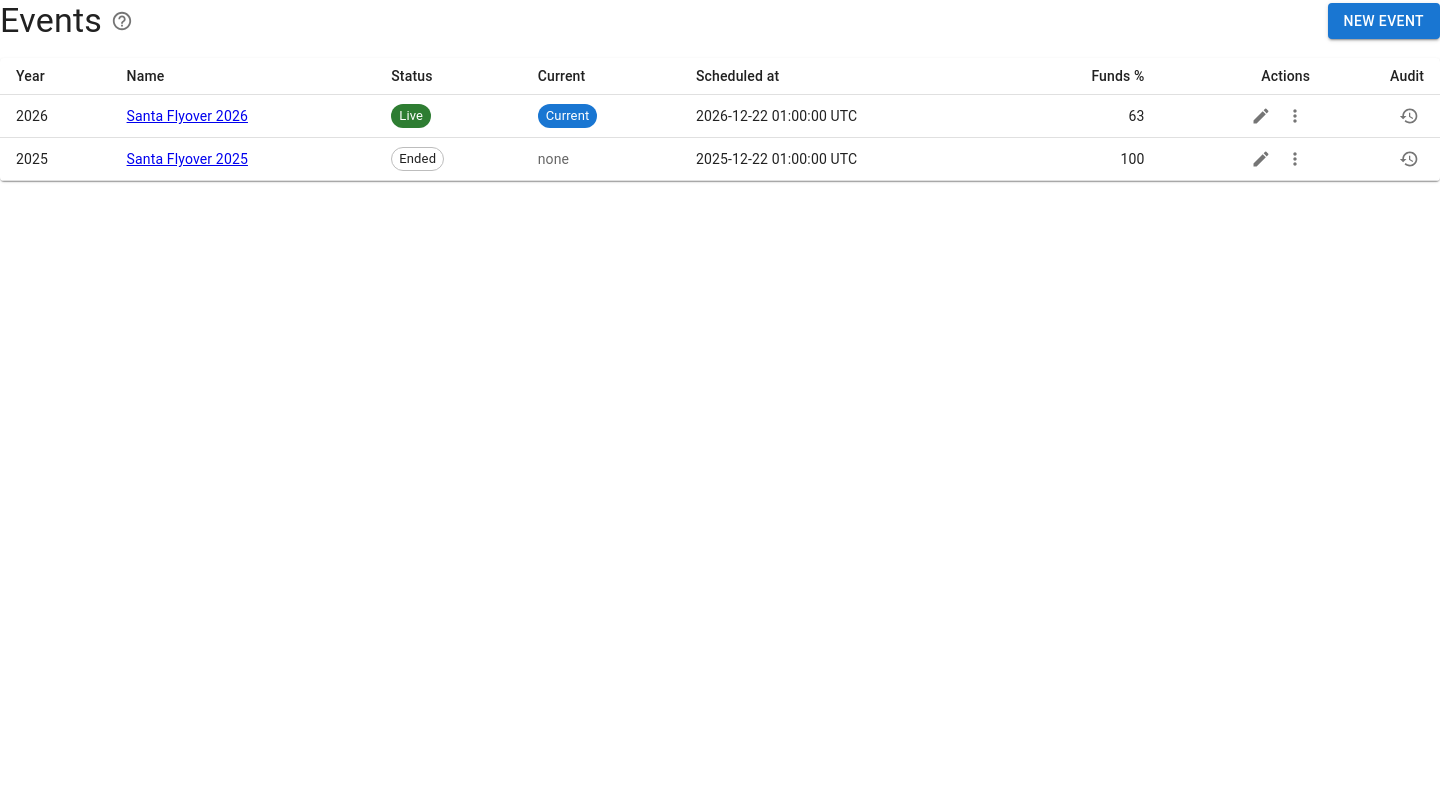
Test: EventsList rows › shows the Current chip on the current event and hides Set current
This screenshot has width=1440, height=810.
// Row menu on the current row has no Set current item.
Click the button named "Actions for Santa Flyover 2026": (1295, 116) [1280,101,1310,131]
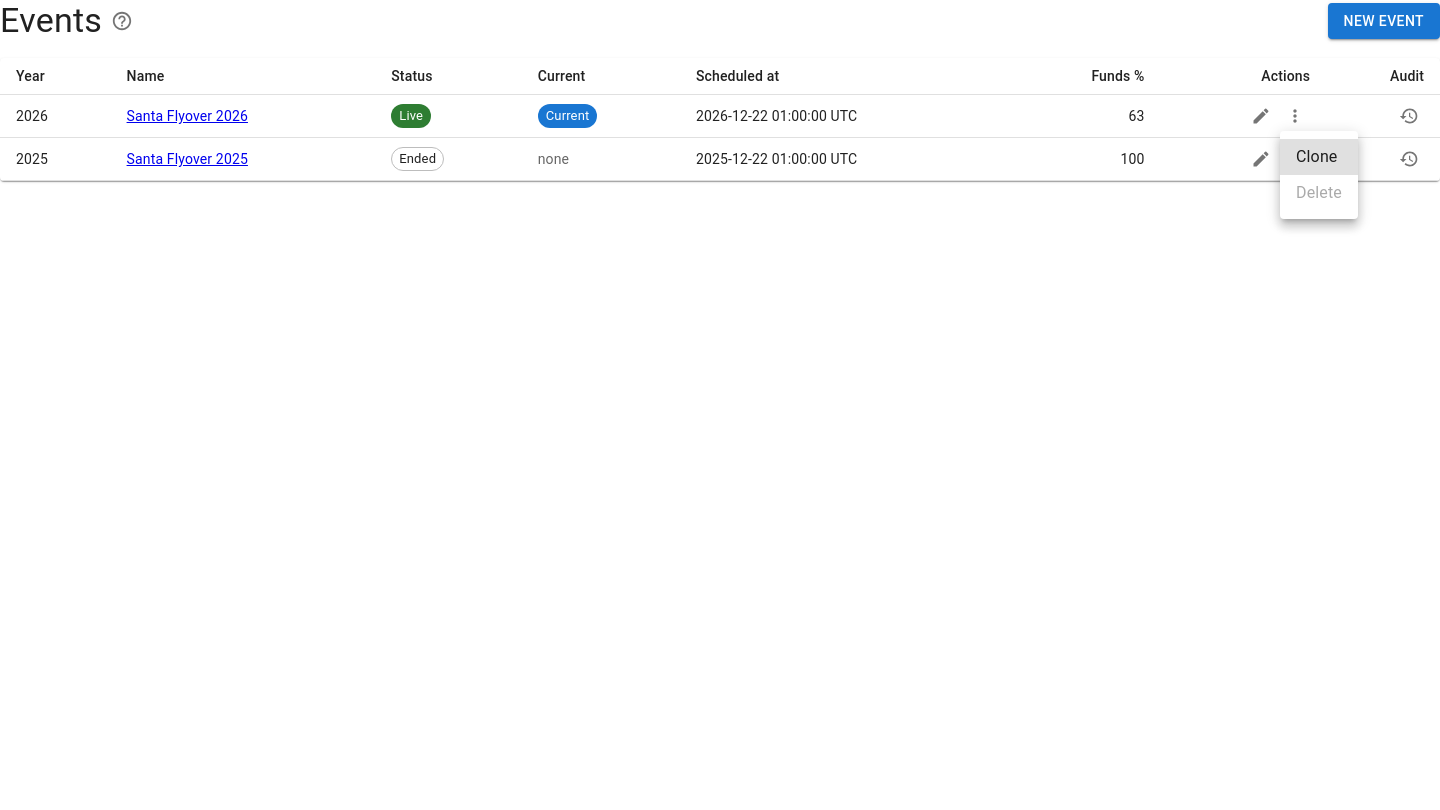
Expected: the menu item "set current" is not shown
// Close and open the non-current row's menu.
Press Escape
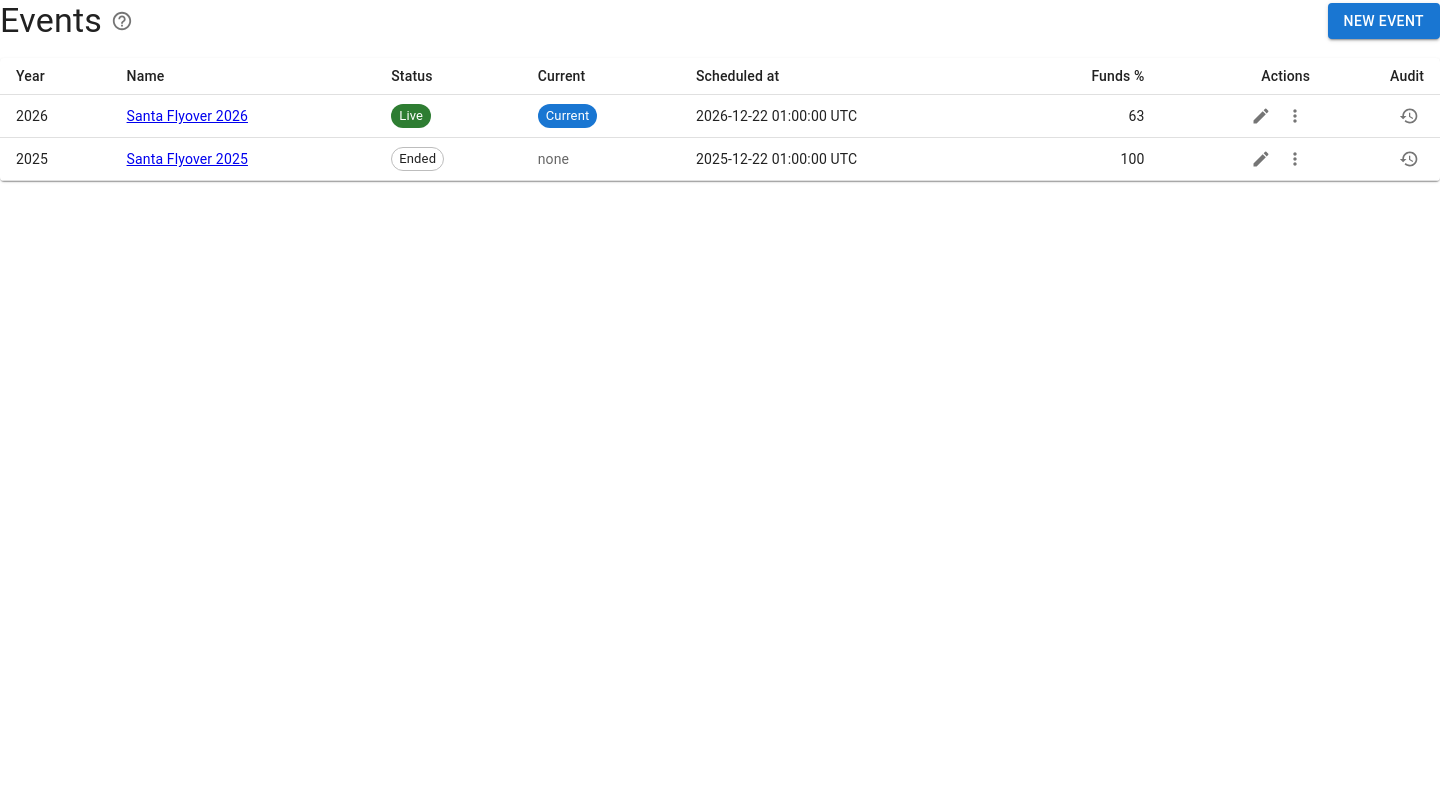
Click the button named "Actions for Santa Flyover 2025": (1295, 159) [1280,144,1310,174]
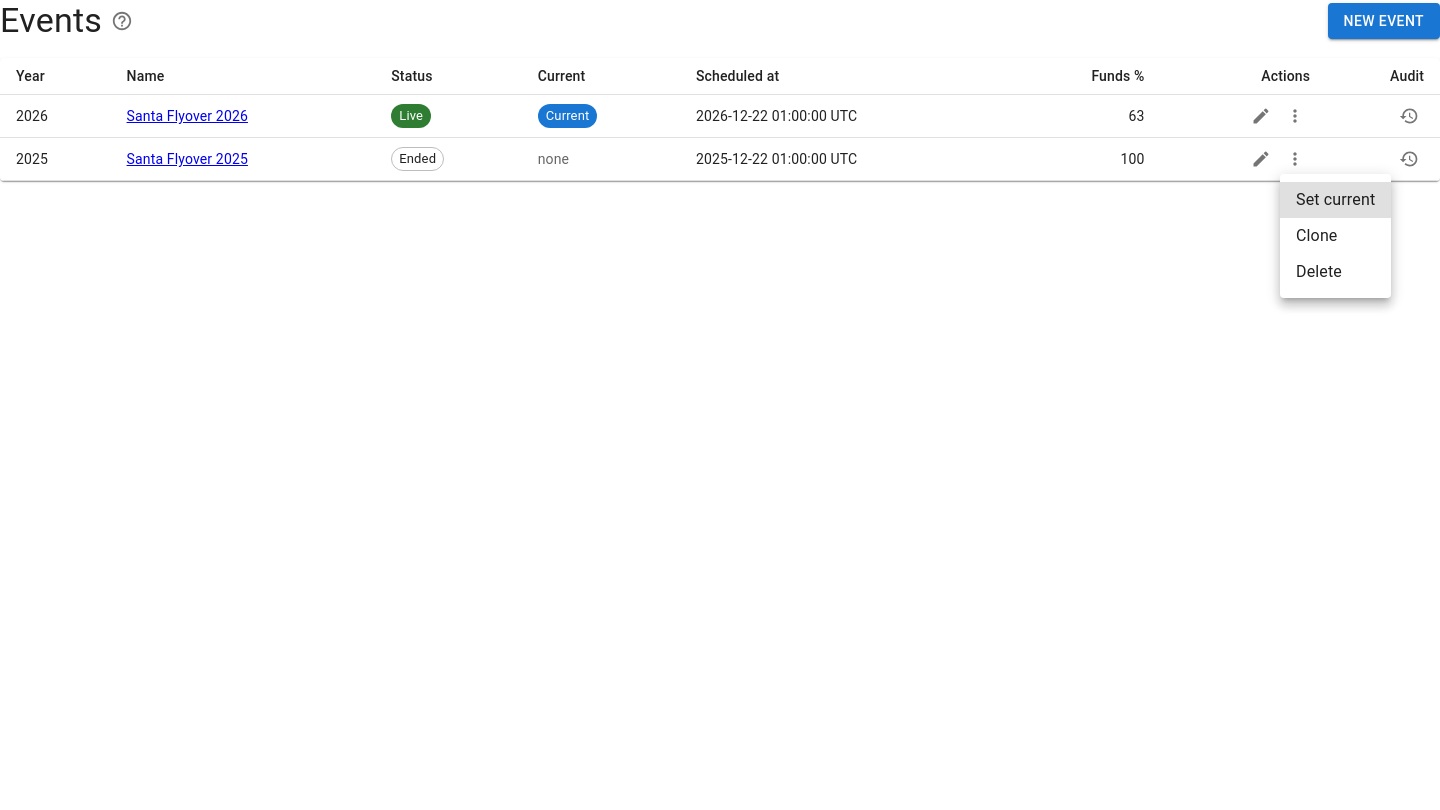
Expected: the menu item "Set current" is shown
Click the menu item "Set current": (1336, 200) [1280,182,1391,218]
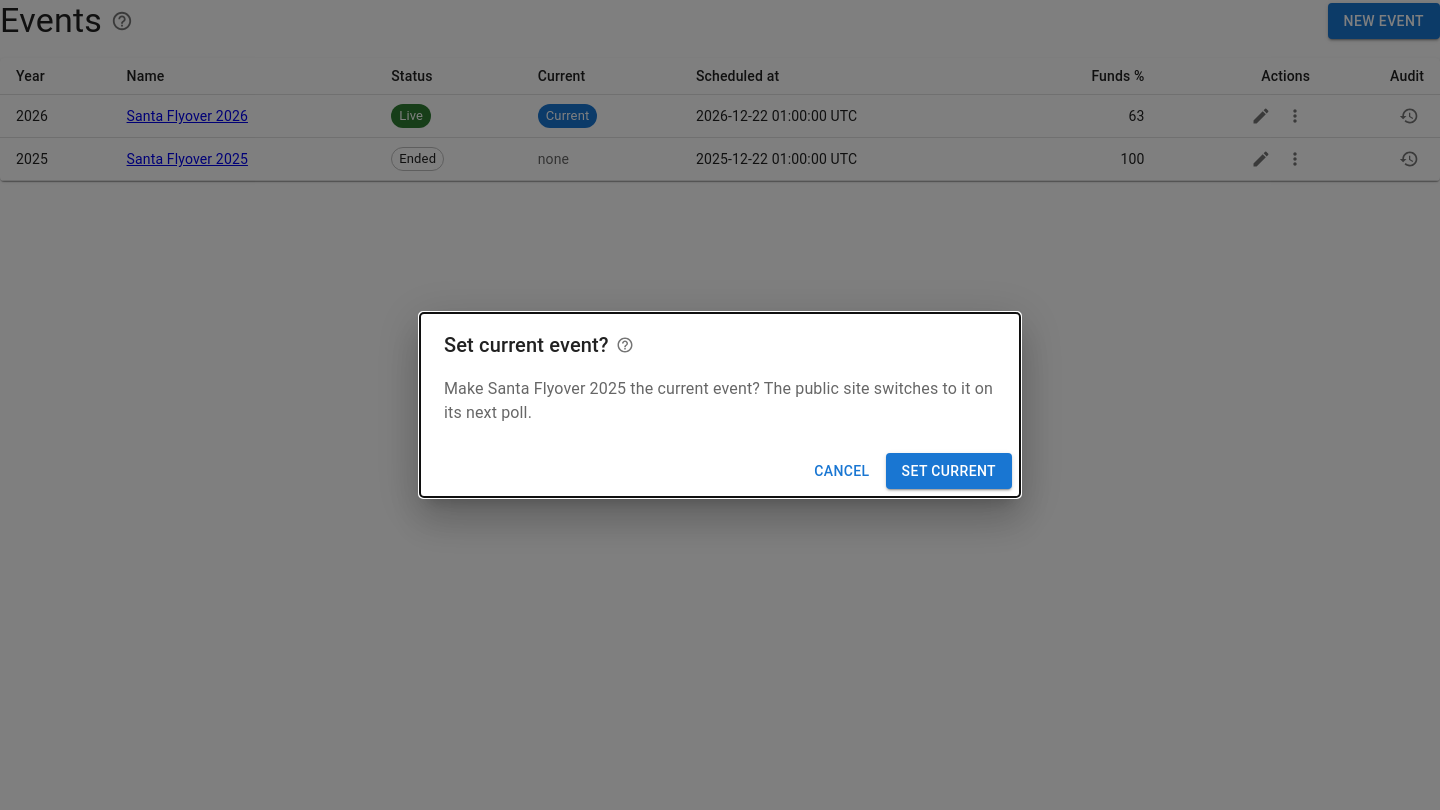
Expected: the button with test id "help-events.set-current" is shown, [613,333,637,357]
